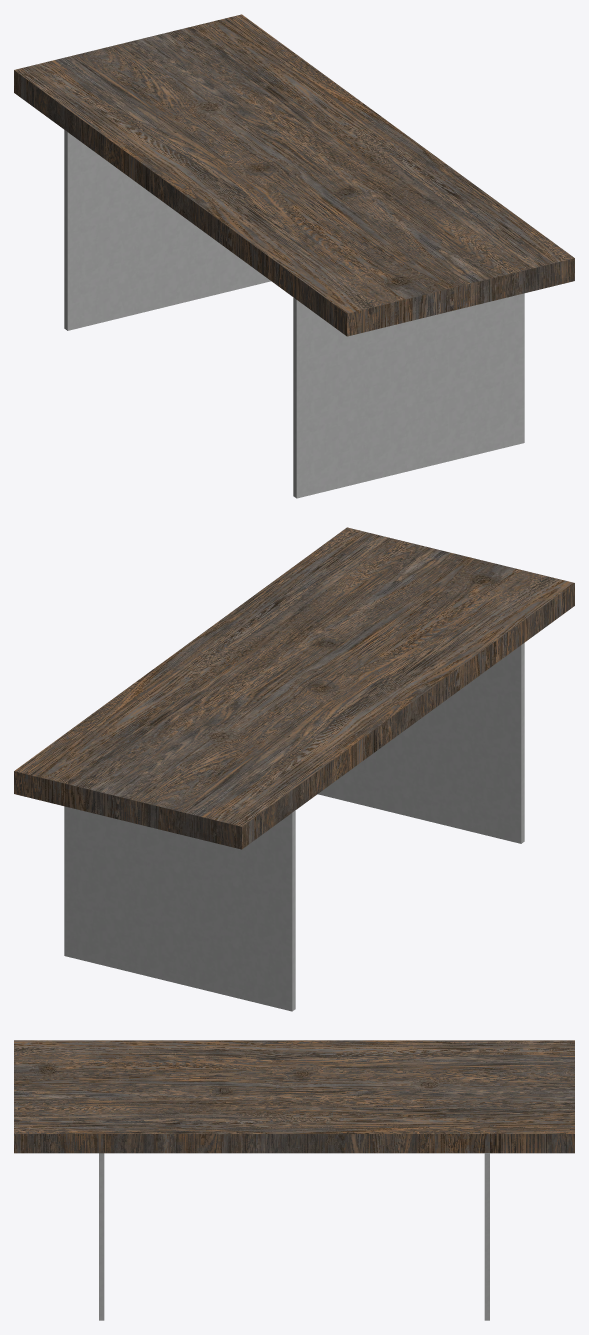
The model's file is KitchenTable.fbx.
3 views of the same model, one above another, from view 1: azimuth 30°, elevation 25°; view 2: azimuth 150°, elevation 25°; view 3: azimuth 270°, elevation 25° (orthographic). The views are drawn at different scales.
Visible parts, largest first — view 1: propKitchenTable; view 2: propKitchenTable; view 3: propKitchenTable.
Boxes of the visible parts, <box> form: propKitchenTable: <box>14,14,574,498</box>; propKitchenTable: <box>14,527,574,1011</box>; propKitchenTable: <box>14,1040,574,1320</box>.
Bounding box in the file's own units: 94.02 × 87.4 × 238.
Materials: 2 (2 with a texture image).
